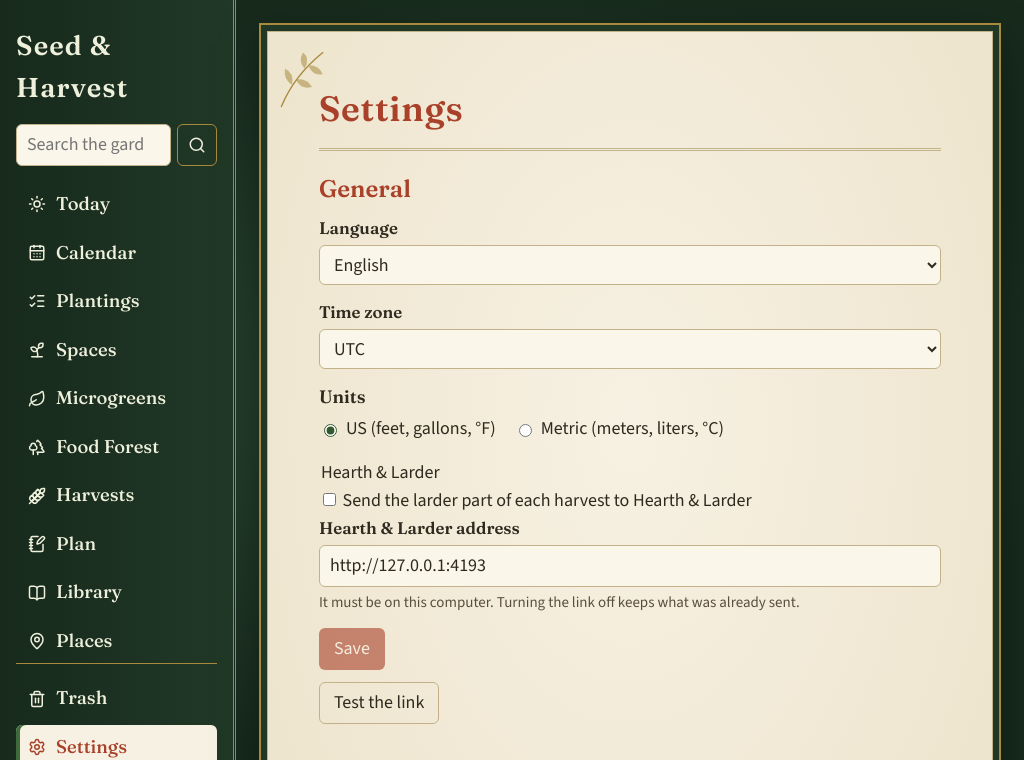
Scenario: Settings › the settings block saves the switch and address and shows the test result
The image size is (1024, 760).
Click the checkbox labelled "Send the larder part of each harvest to Hearth & Larder": point(329, 500) [323,493,336,506]
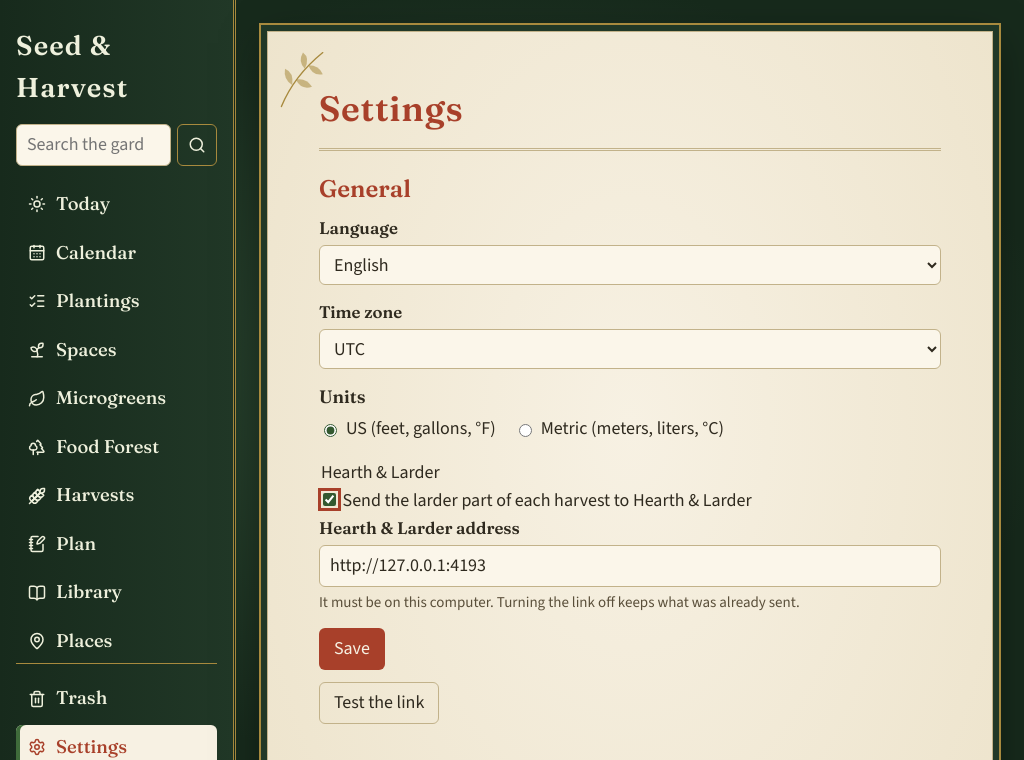
Replace the text in the field labelled "Hearth & Larder address" with "http://localhost:4300": point(630, 566) [319,545,941,587]
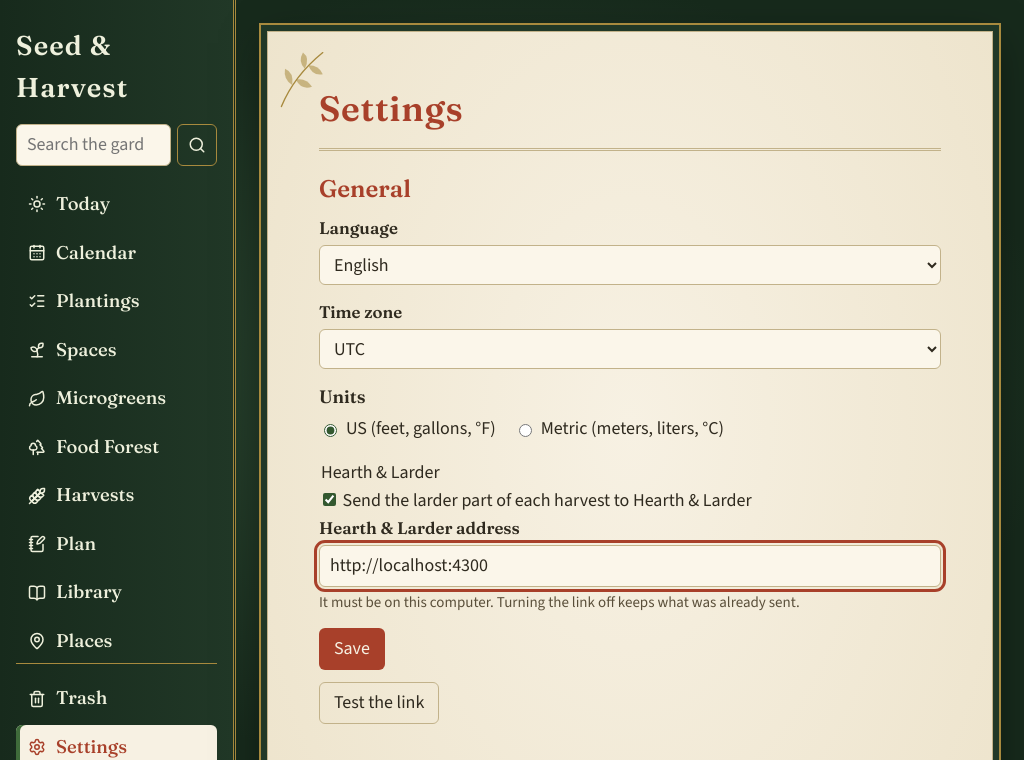
Click the button "Save": point(352, 649) [319,628,385,670]
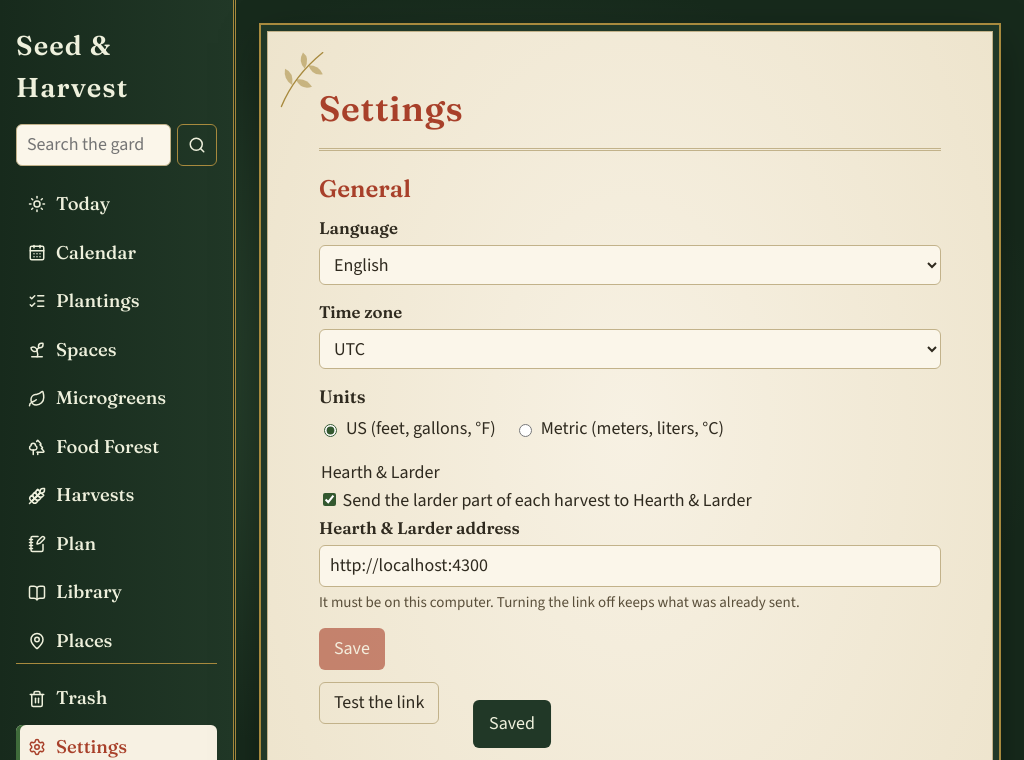
Click the button "Test the link": point(379, 703) [319,682,439,724]
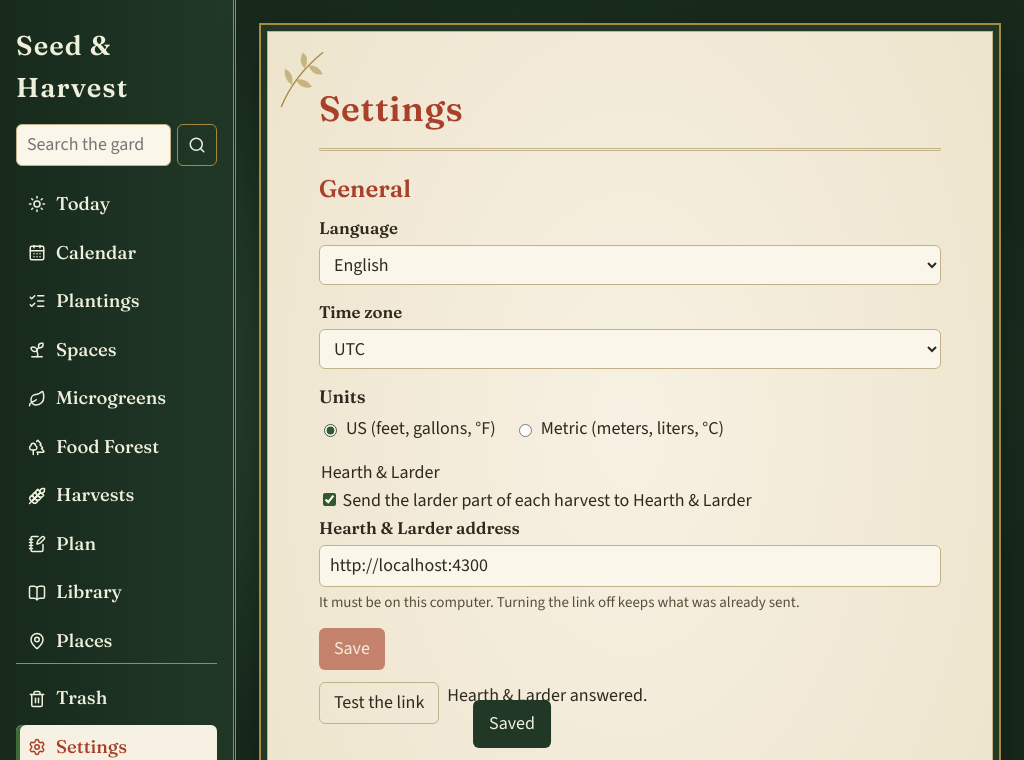
Result: the text "Hearth & Larder answered." is shown at [447,683,648,707]
Click the button "Test the link": point(379, 703) [319,682,439,724]
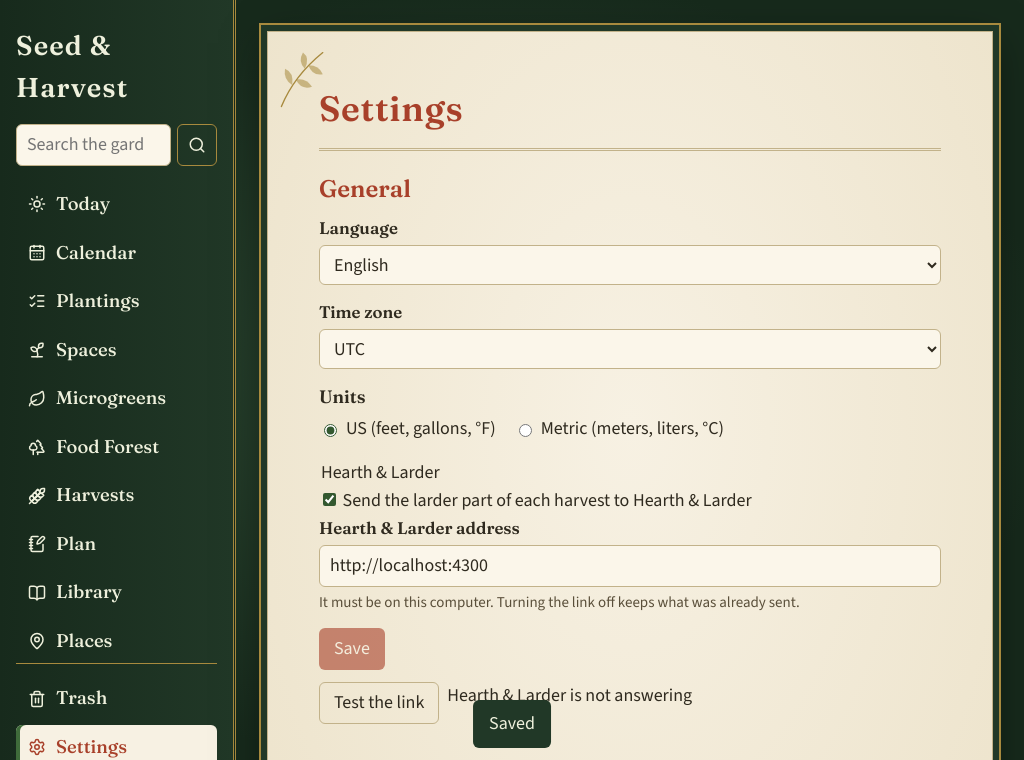
Result: the text "Hearth & Larder is not answering" is shown at [447,683,692,707]
